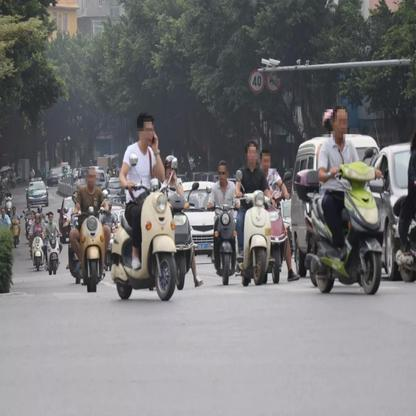target: (108, 112, 184, 300), (235, 141, 276, 284)
